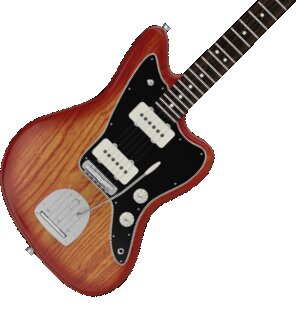ElectricGuitar: (1, 1, 296, 285)
